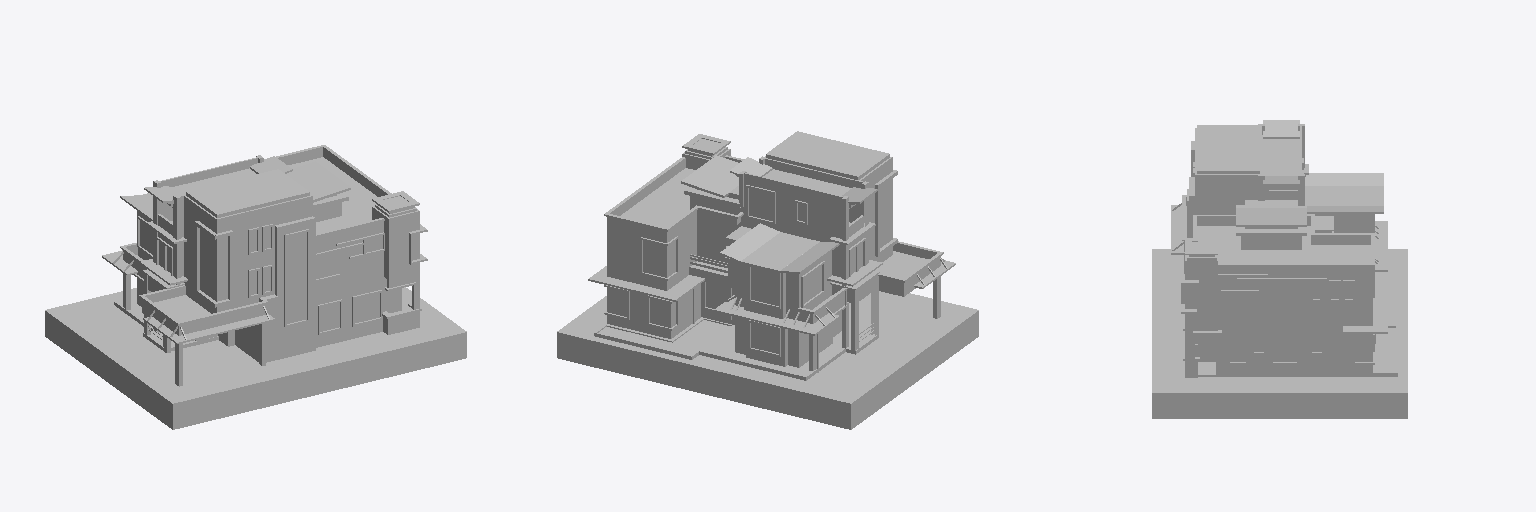
3 renders of one model, left to right at view 1: azimuth 30°, elevation 25°; view 2: azimuth 150°, elevation 25°; view 3: azimuth 270°, elevation 25°, orthographic.
Visible parts, largest first — view 1: bungalow-2; view 2: bungalow-2; view 3: bungalow-2.
Part boxes in pixels (x1,y1,x2,y2): bungalow-2: (45, 145, 466, 429); bungalow-2: (557, 131, 978, 429); bungalow-2: (1152, 120, 1407, 418).
Bounding box in the file's own units: 0.2582 × 0.153 × 0.1946.